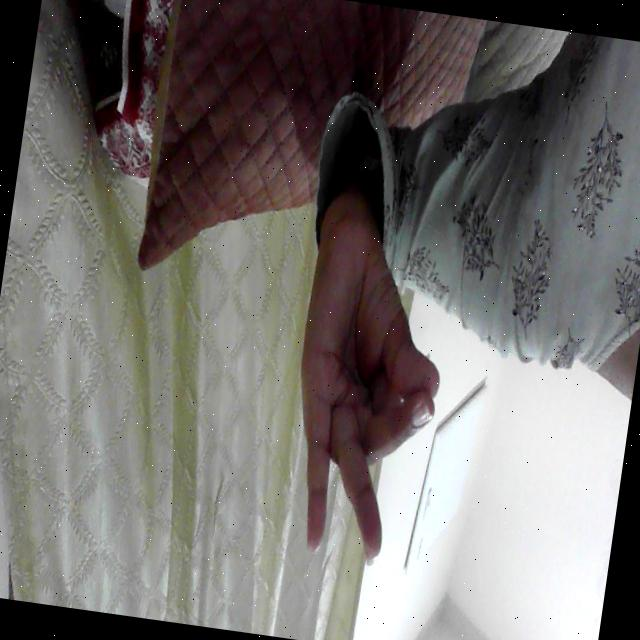Bhramara: (249, 186, 476, 600)
